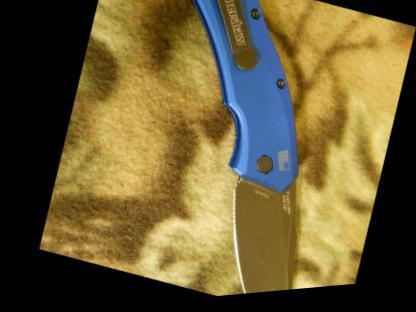knife: (190, 156, 332, 299)
